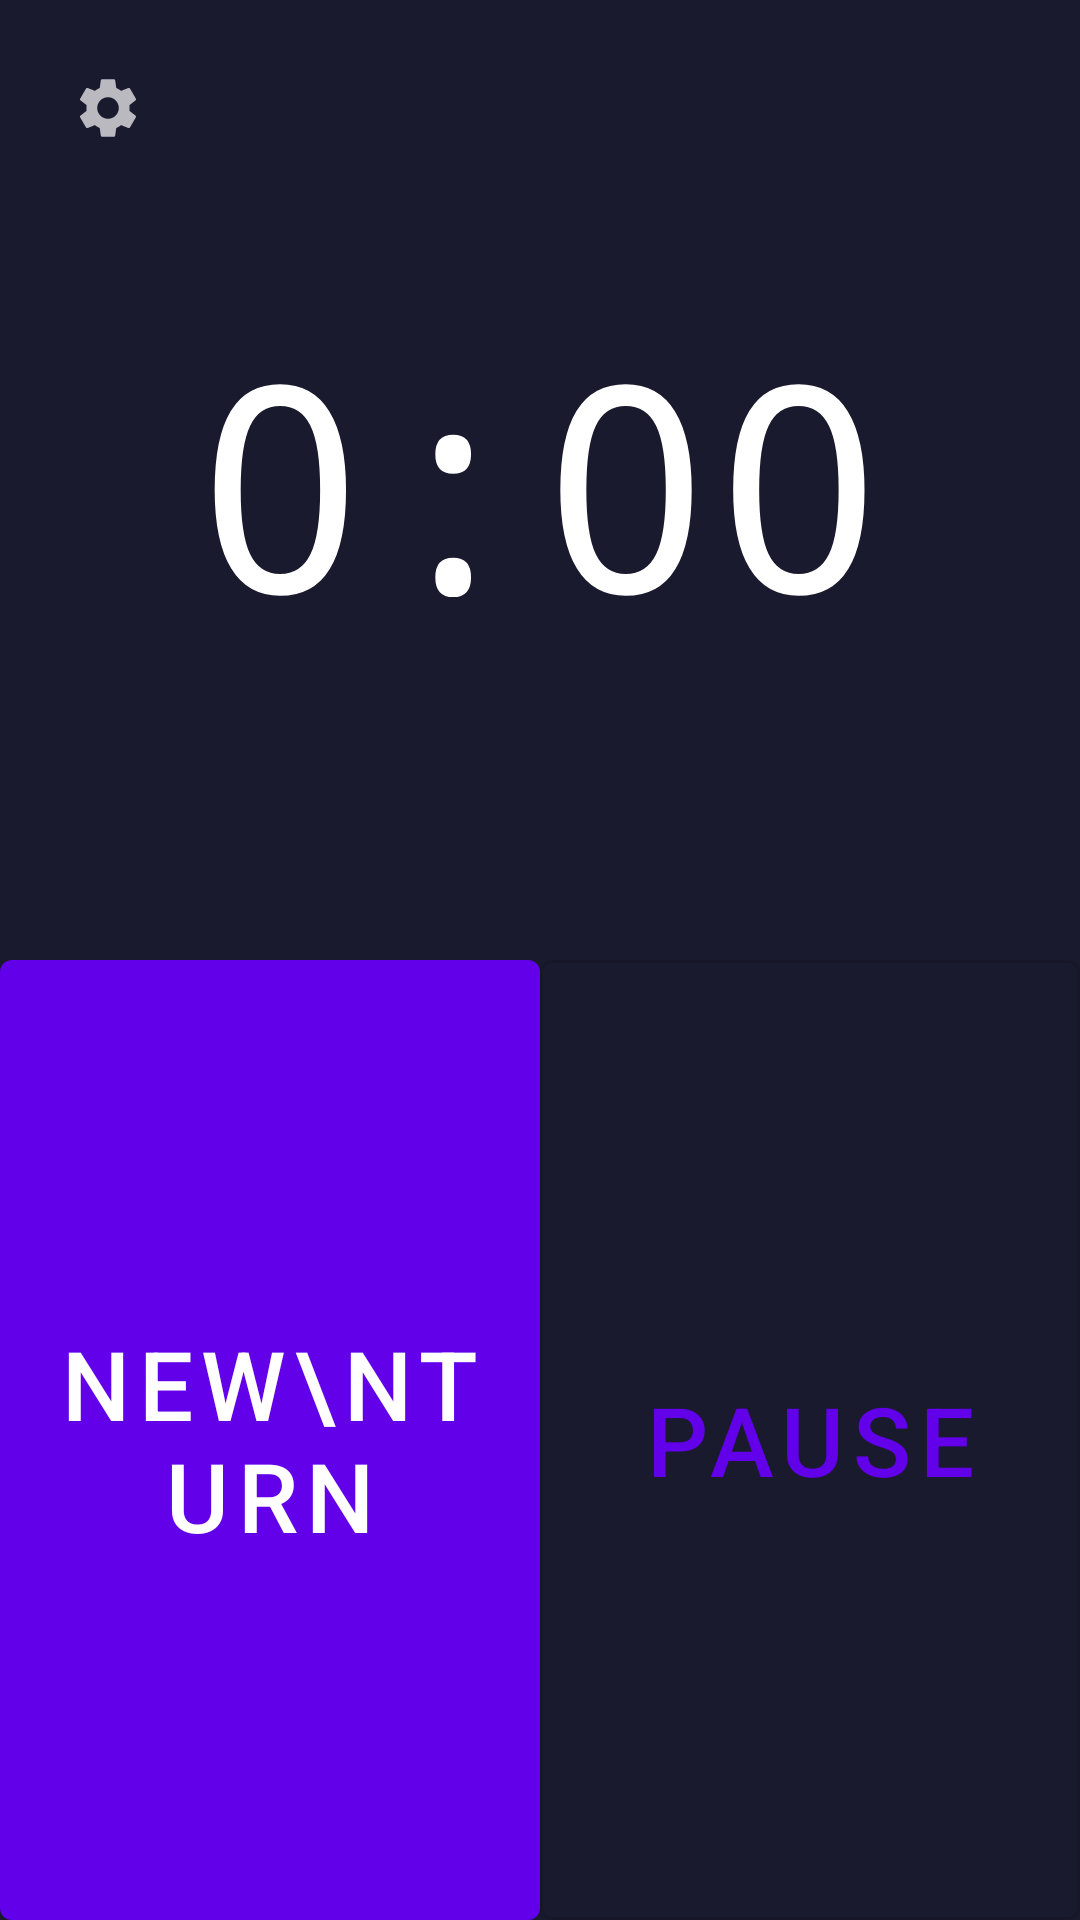

Where to tap for icons on this 1080px x 1920px app screen, as (x,y):
Settings: (108,108)
